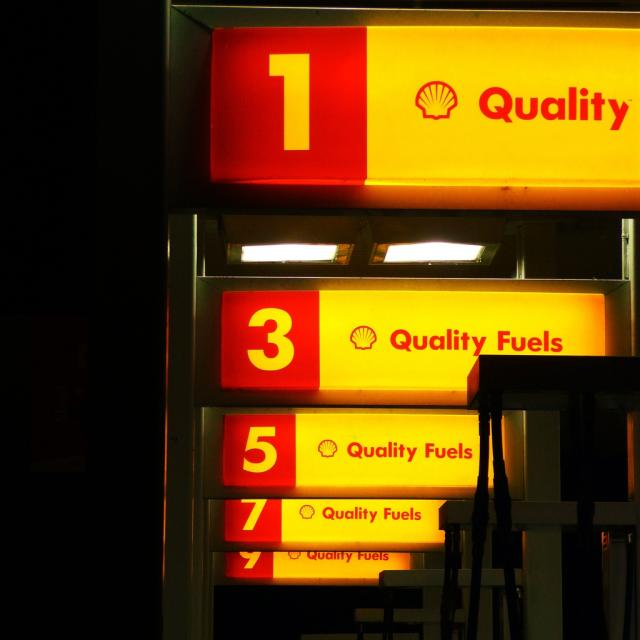shell: (417, 80, 459, 121), (349, 323, 379, 353), (319, 439, 338, 459), (299, 504, 317, 522), (289, 552, 304, 561)
